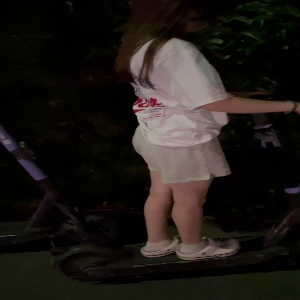human on a scooter: (42, 1, 300, 285)
